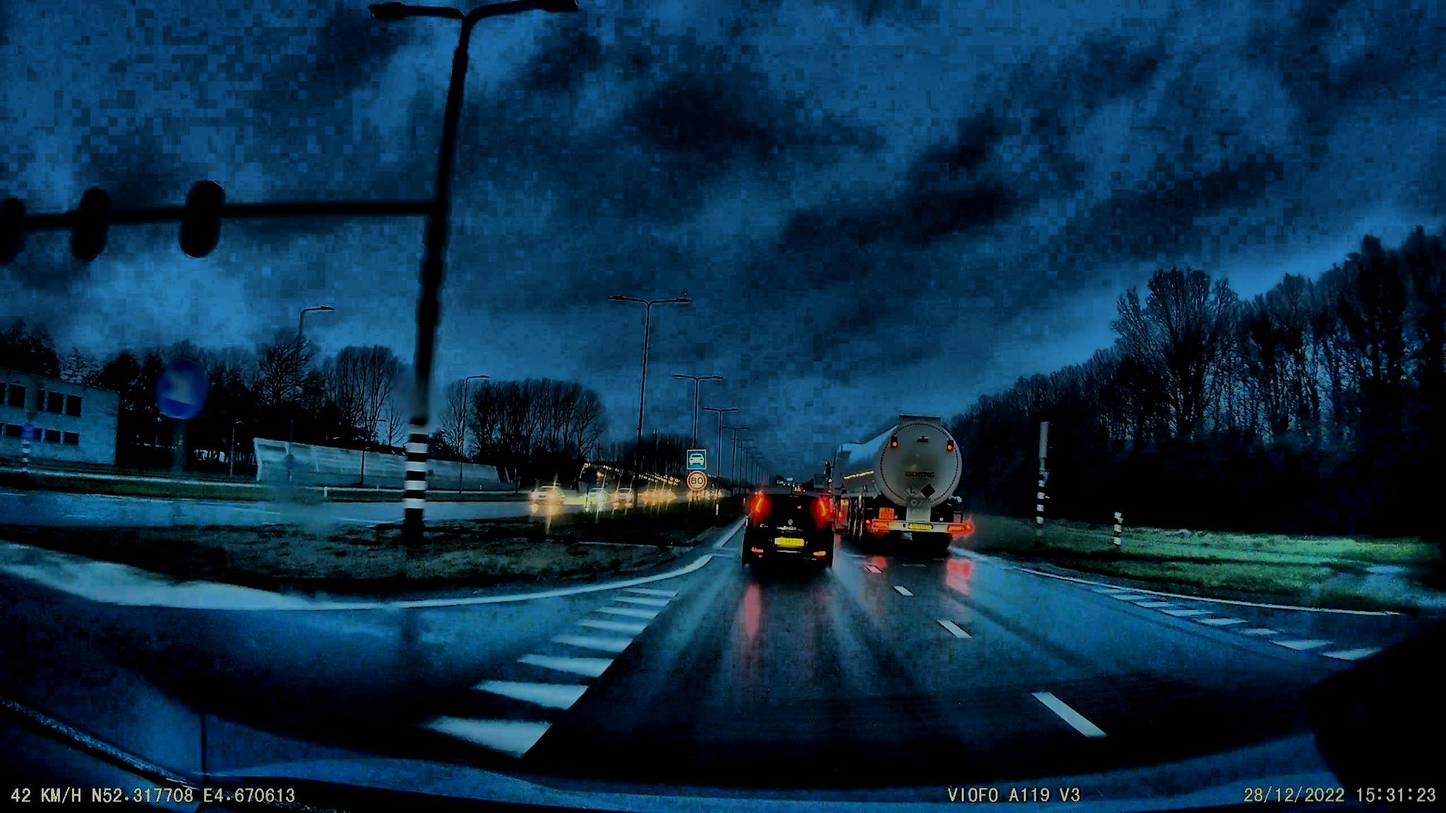Roads: (0, 533, 1446, 813)
